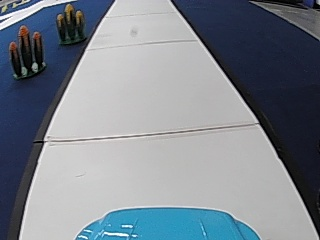corn: (9, 25, 47, 79), (54, 3, 87, 45)
